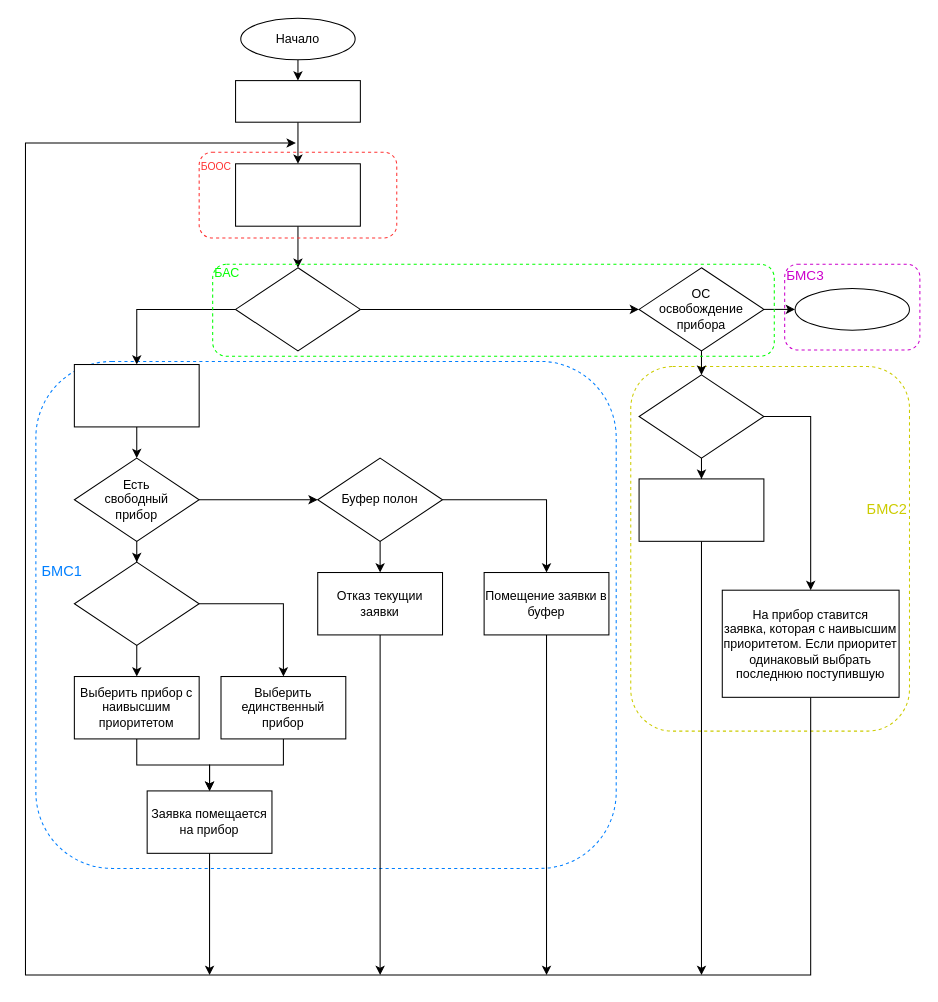
The diagram is 938 pixels wide and 1002 high, and some of its shapes have lost their labels. Here are the shapes that lost their labels. From the top down, the centre of each, then its label:
At point 297,101: "Начальные присвоения".
At point 297,194: "Выбирается ОС с приоритетом 0 и минимальным Тос".
At point 297,309: "ОС поступление заявки".
At point 851,309: "Конец".
At point 136,395: "Генерация следующей заявки".
At point 701,416: "Буфер пуст".
At point 701,509: "Прибор в простой. Признак = 1".
At point 136,603: "Свободный прибор = 1".
